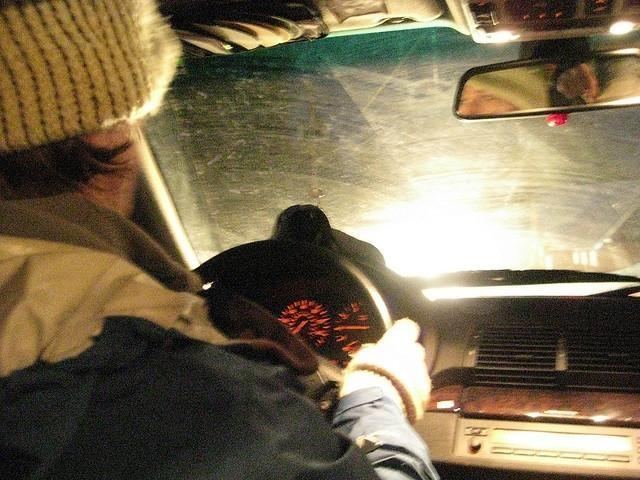car: (129, 2, 640, 472)
